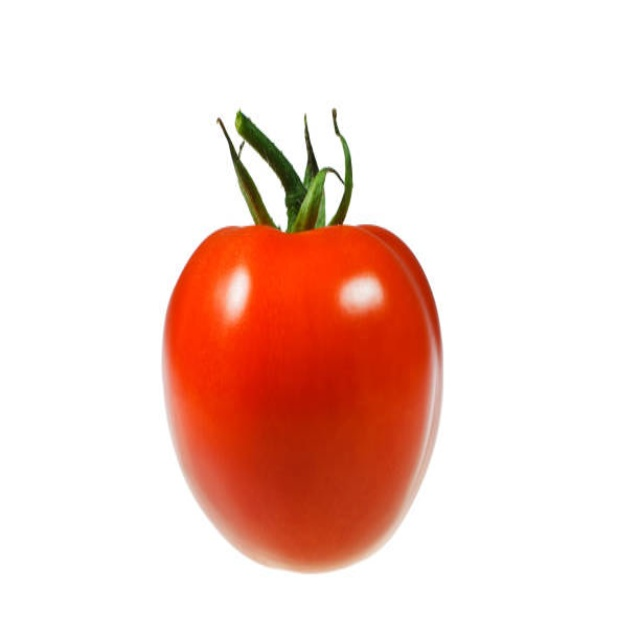tomato: (155, 112, 437, 576)
